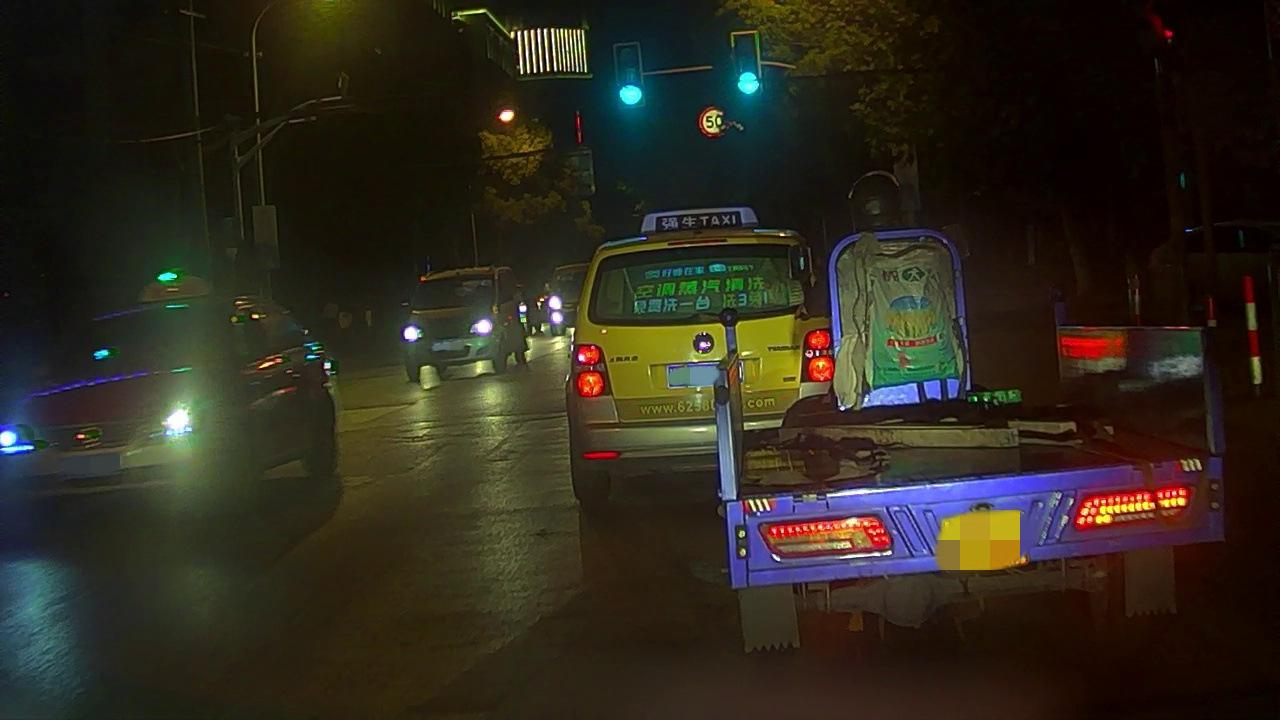traffic_light: (615, 42, 643, 106), (732, 34, 758, 99)
